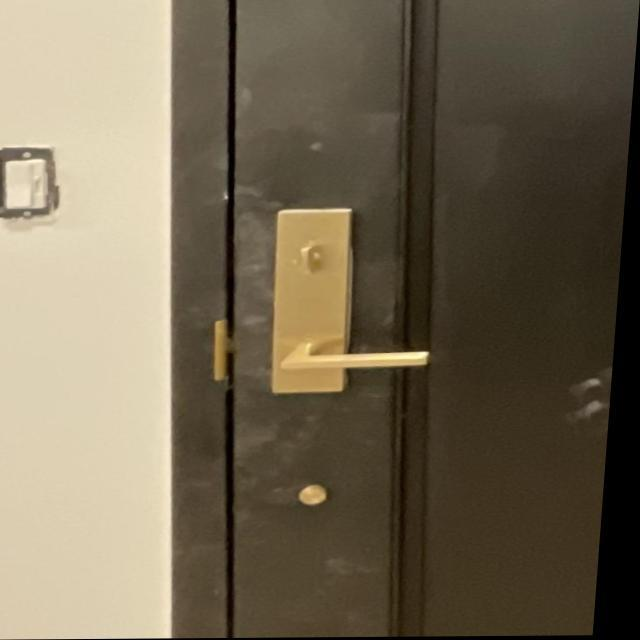door_handle: (260, 341, 453, 384)
